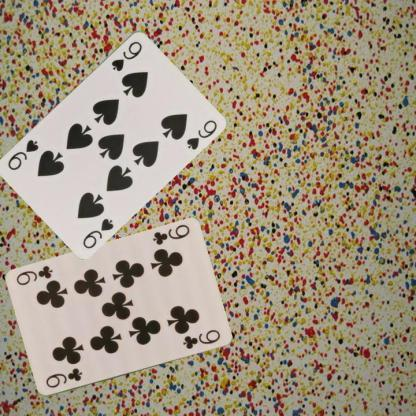9c: (43, 365, 84, 390), (150, 222, 190, 247)
9s: (108, 38, 144, 72), (80, 216, 115, 249)
